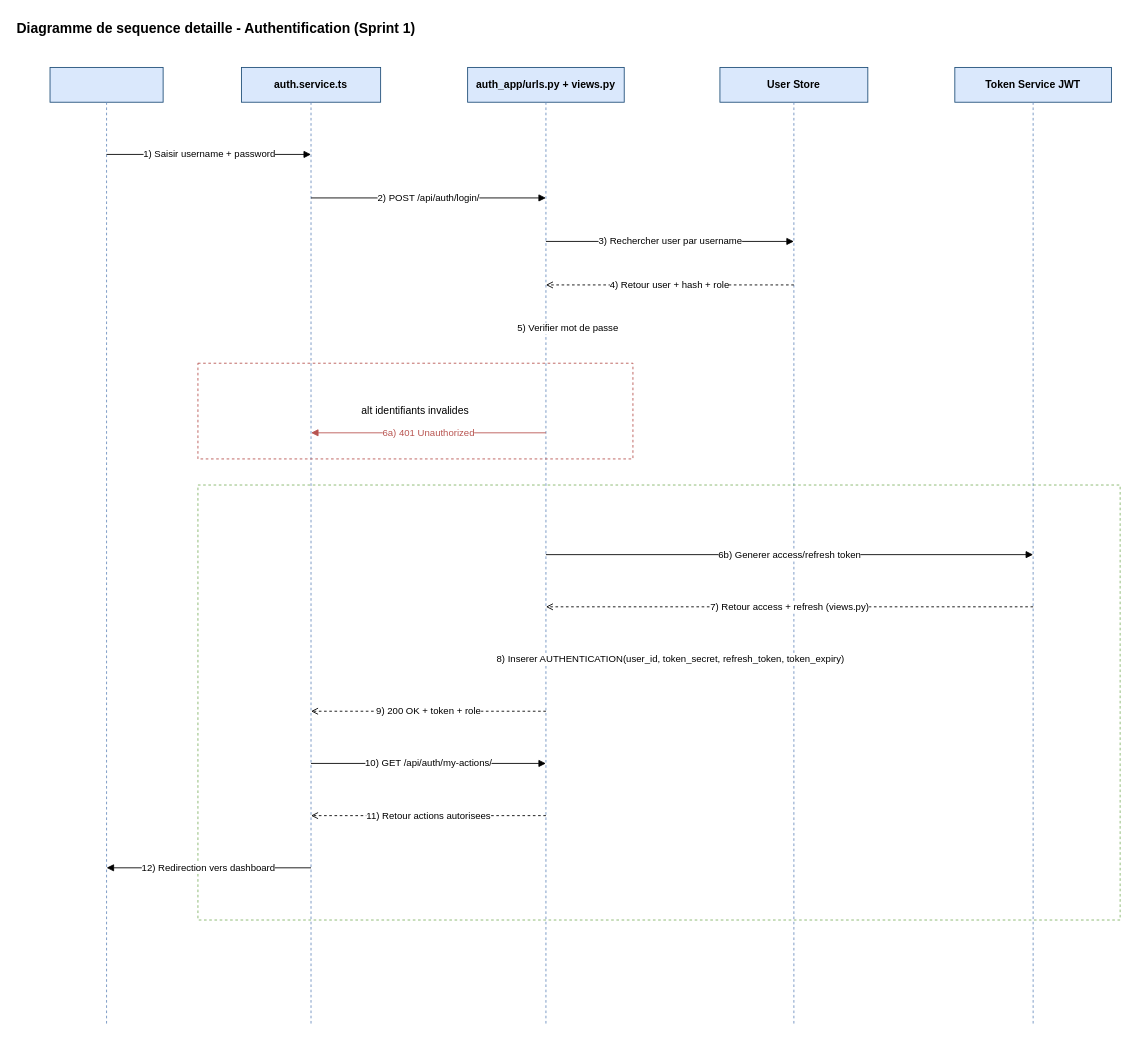
Image size: 1135x1041. Some labels were removed from this diagram. Here are the shapes that lost their labels. From the top down, the box of each, then its label:
(49, 67, 163, 102): login-commission.component.ts
(197, 484, 1120, 920): else identifiants valides
